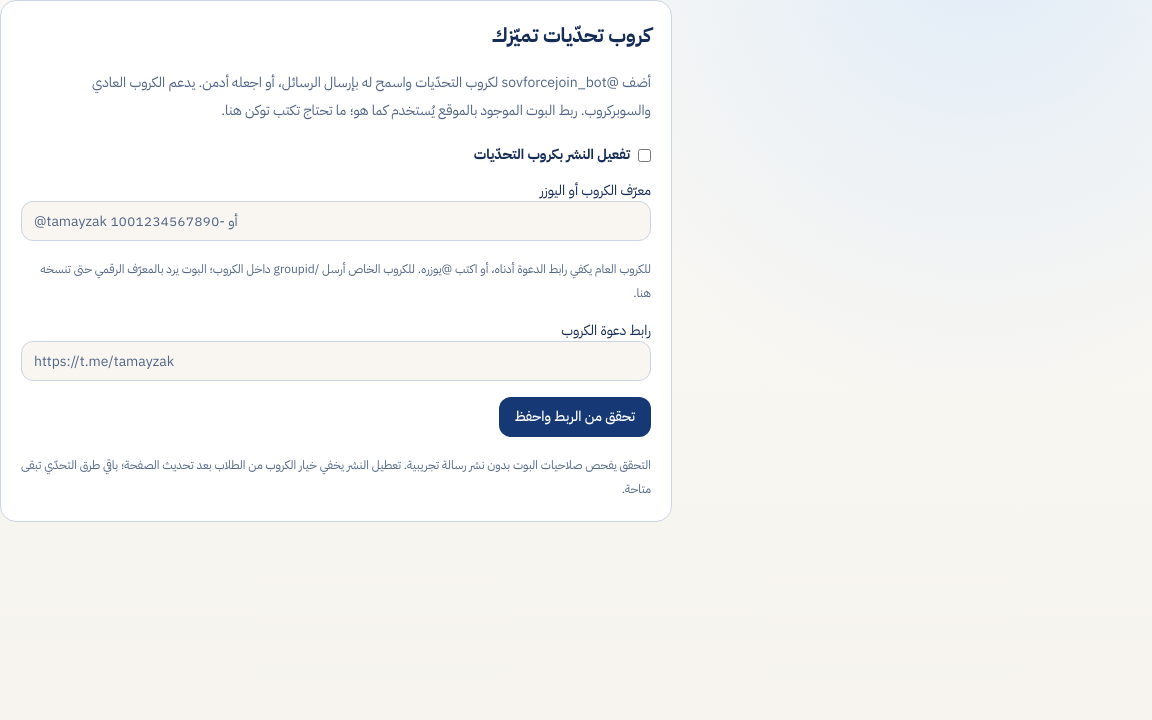
Test: explains missing bot rights without reporting that publishing is enabled
Type "-1001234567890" into the field labelled "معرّف الكروب أو اليوزر" at (336, 221), box top-left (21, 201), bottom-right (651, 241)
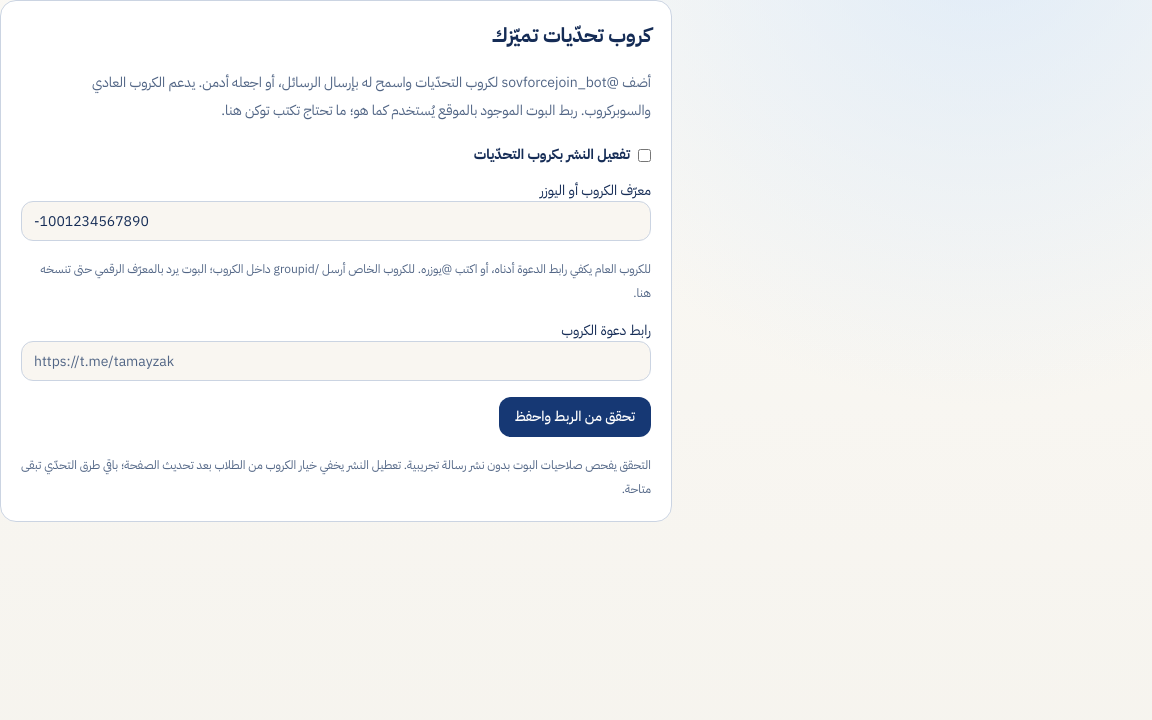
Click the checkbox at (644, 155), box top-left (638, 148), bottom-right (651, 162)
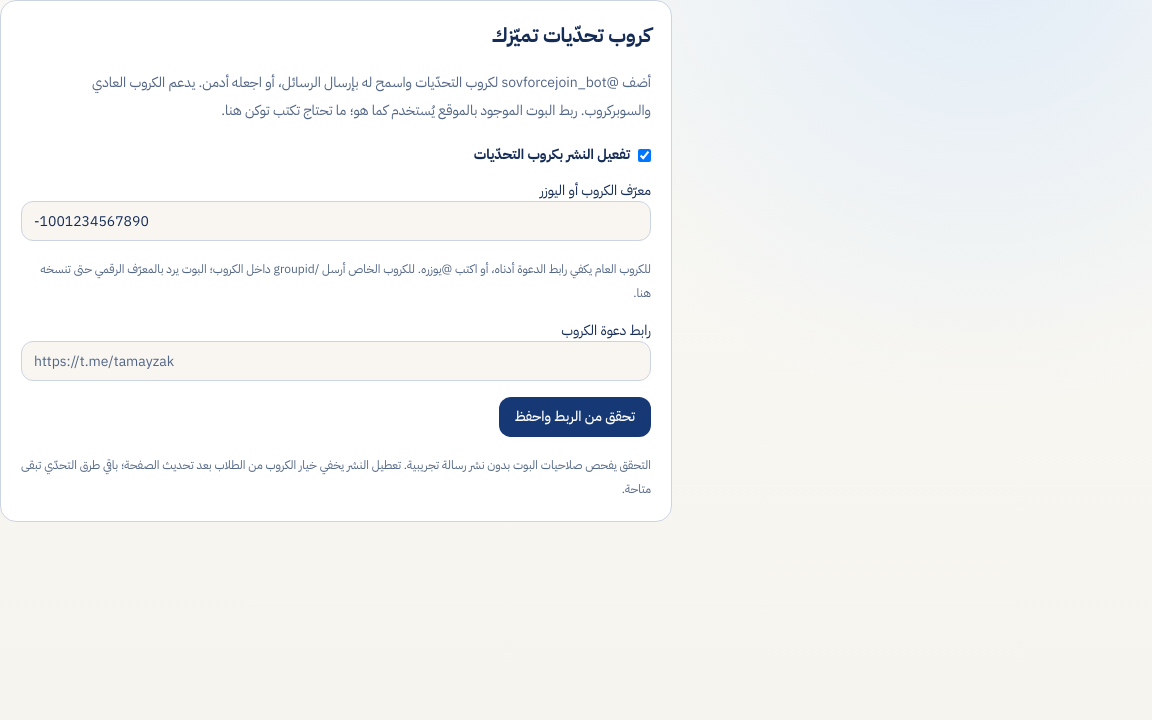
Click the button "تحقق من الربط واحفظ" at (575, 417), box top-left (499, 397), bottom-right (651, 437)
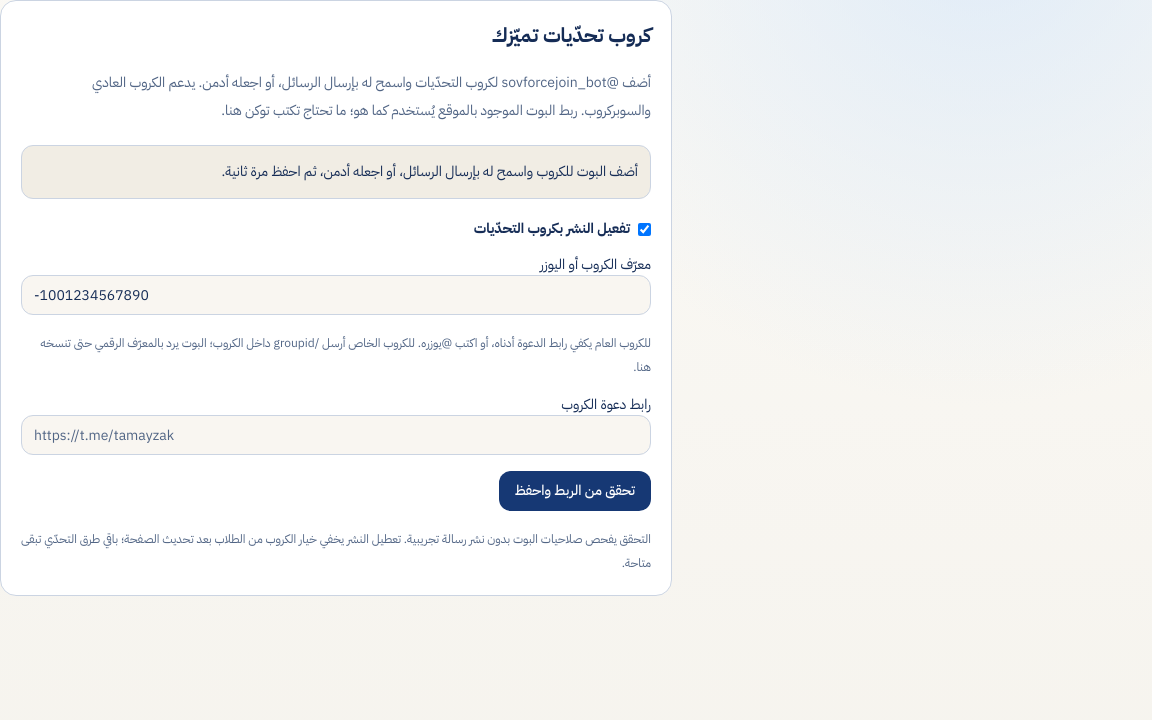
Expected: the message shows "أضف البوت للكروب", top-left (222, 161), bottom-right (638, 182)
